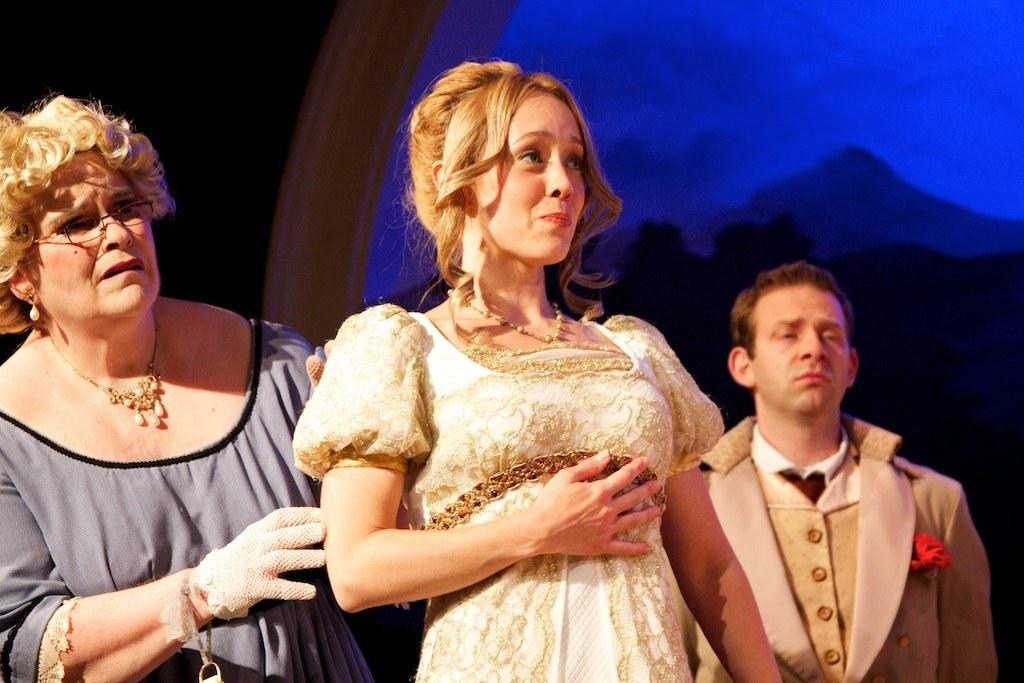Sem Máscara: (28, 146, 151, 318), (470, 94, 582, 263), (743, 281, 850, 411)
